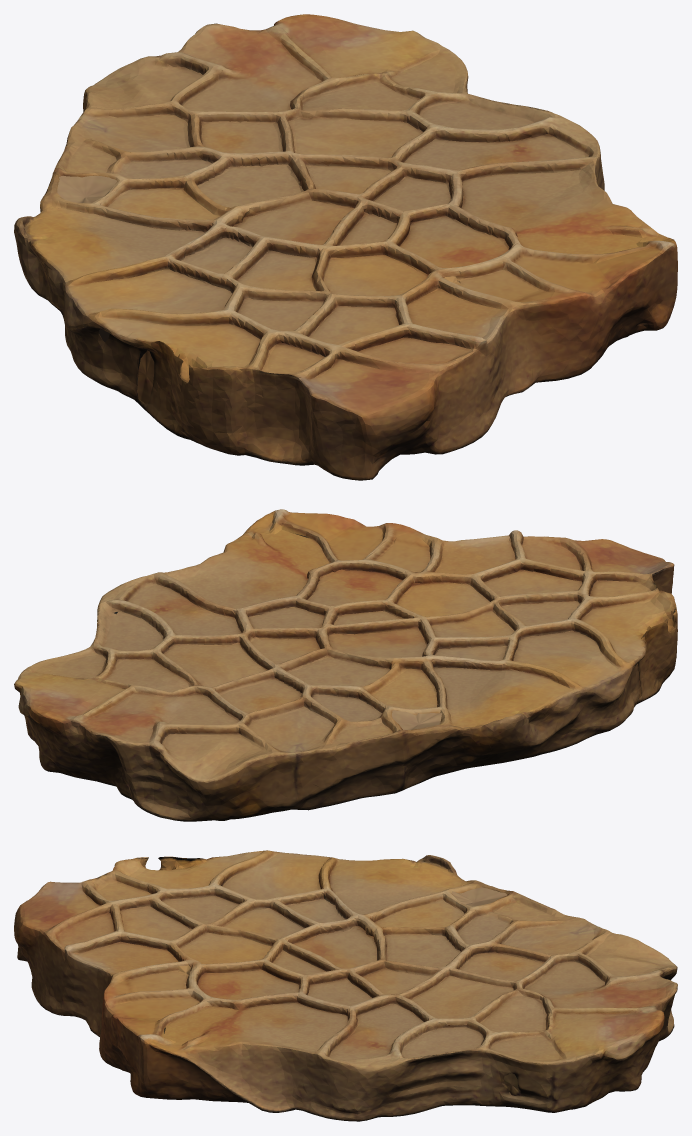
3 views of the same model, one above another, from view 1: azimuth 30°, elevation 25°; view 2: azimuth 150°, elevation 25°; view 3: azimuth 270°, elevation 25° (orthographic). The views are drawn at different scales.
Parts seen in each view (by area): view 1: world; view 2: world; view 3: world.
Boxes of the visible parts, x1,y1,x2,y2 form: world: [14, 14, 677, 480]; world: [14, 509, 677, 821]; world: [14, 850, 677, 1121].
Bounding box in the file's own units: 0.1736 × 0.0273 × 0.22.
1 material, 1 textured.
